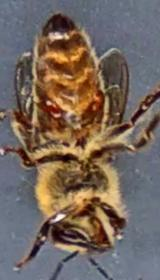varroa_mite: (34, 85, 70, 124), (86, 84, 111, 114)
